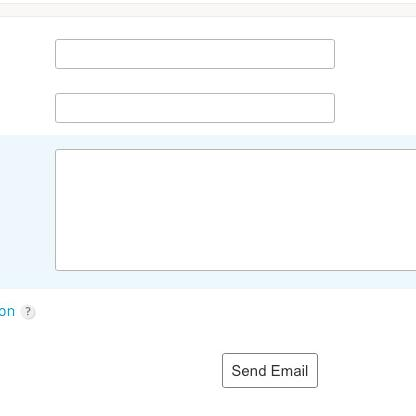button: (219, 351, 320, 391)
field: (54, 37, 335, 73), (51, 91, 337, 125)
